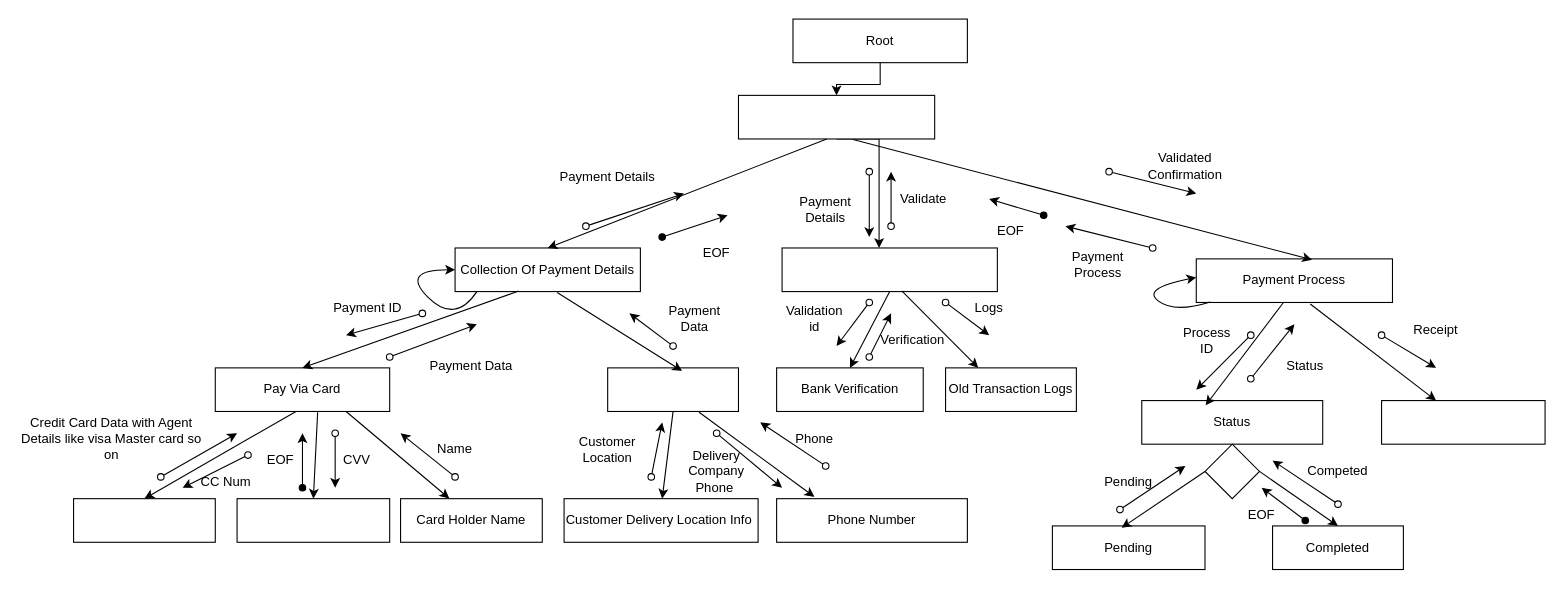
The diagram is 1564 pixels wide and 589 high, and some of its shapes have lost their labels. Here are the shapes that lost their labels. From the top down, the box of each, then its label:
(737, 94, 935, 139): Payment System
(781, 247, 997, 292): Validate Payment
(607, 367, 738, 411): Cash On Delivery
(1380, 399, 1545, 444): Generate Receipt
(72, 498, 215, 542): Card Number
(236, 498, 390, 542): CVV Details
